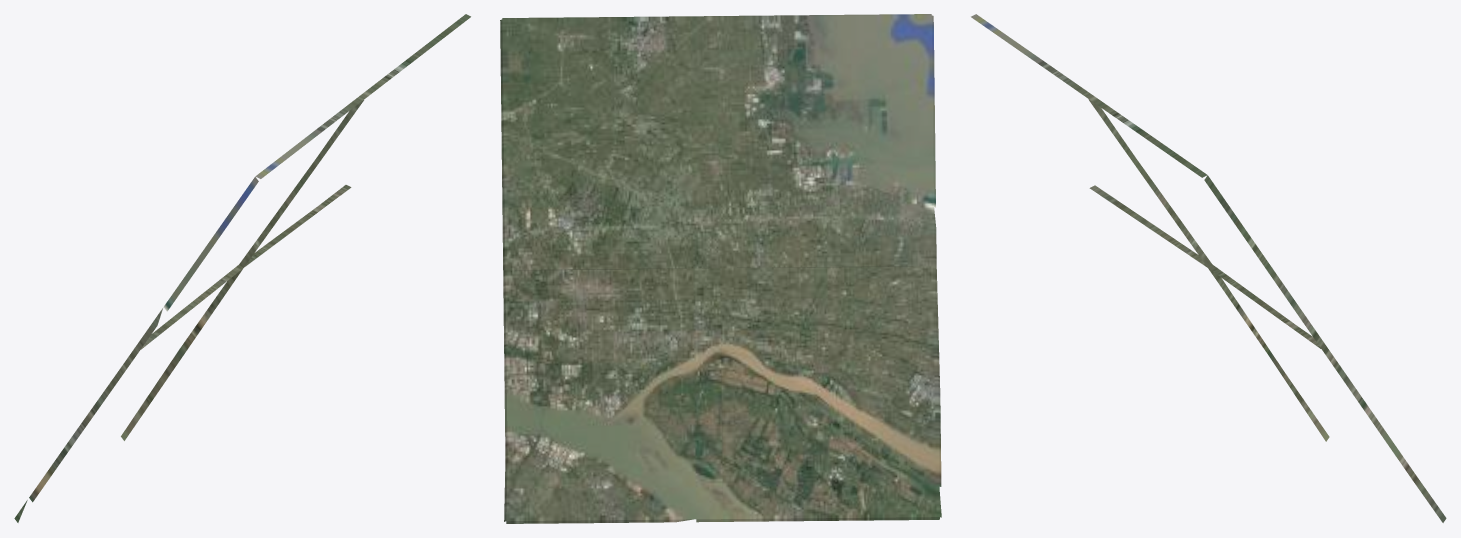
3 renders of one model, left to right at view 1: azimuth 30°, elevation 25°; view 2: azimuth 150°, elevation 25°; view 3: azimuth 270°, elevation 25°, orthographic. The views are drawn at different scales.
Size of the model in its own units: 79375 by 67195 by 71035.
Materials: 1 (1 with a texture image).
